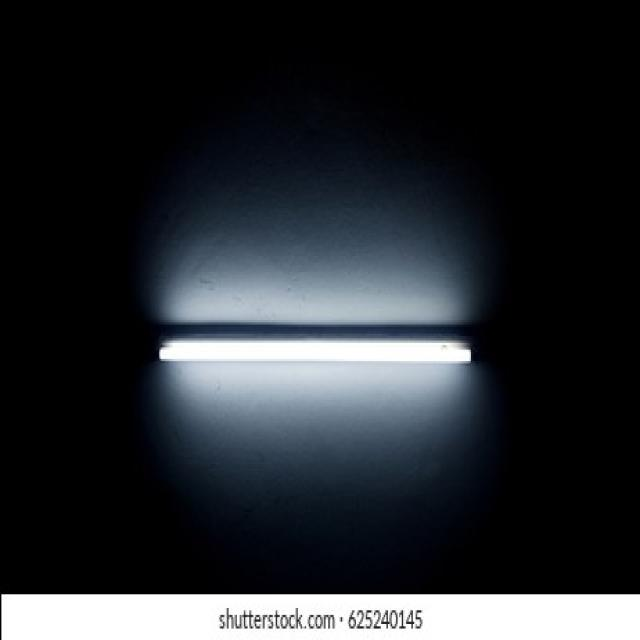tubelight_on: (156, 326, 478, 368)
